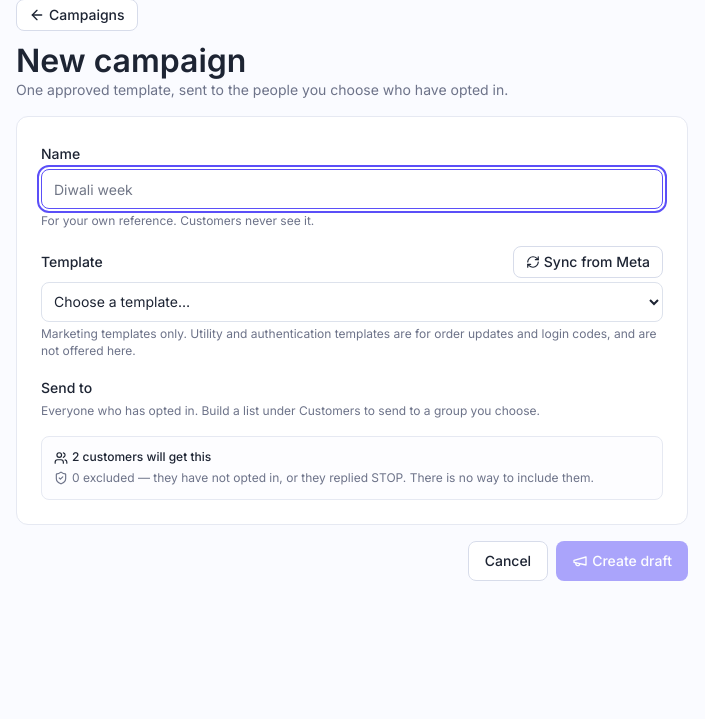
Test: composing a campaign with a placeholder › leaves a template with no placeholders immediately creatable
Type "New" into the field labelled "Name".
click(352, 189); type("New")  # box [41,169,663,209]
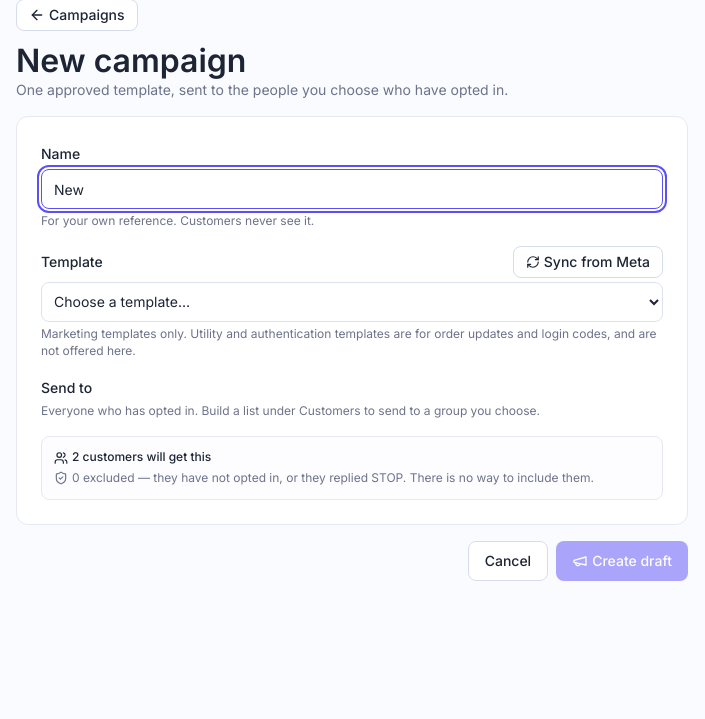
Select "Plain" in the dropdown labelled "Template" at (352, 302), box [41,282,663,322]
(page scrolled)
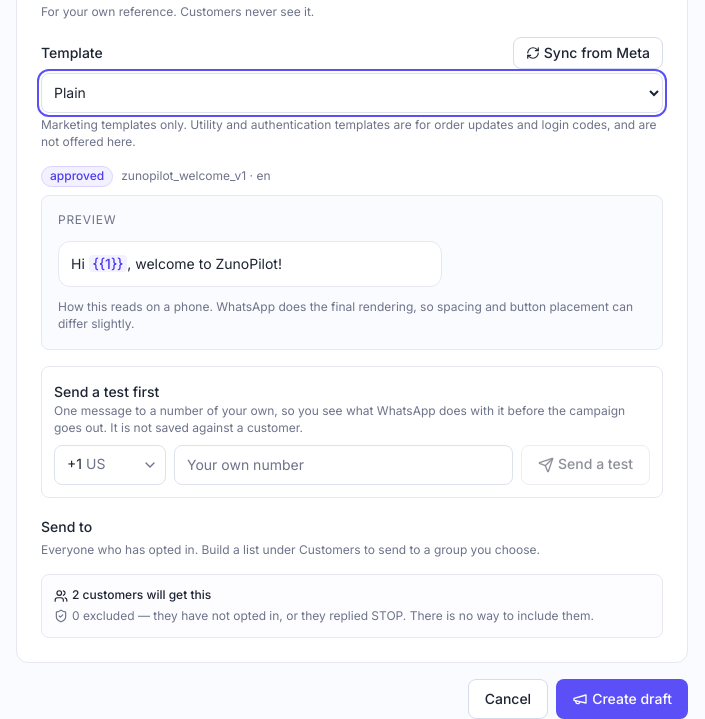
Expected: the button "Create draft" is enabled, [556,679,688,718]
